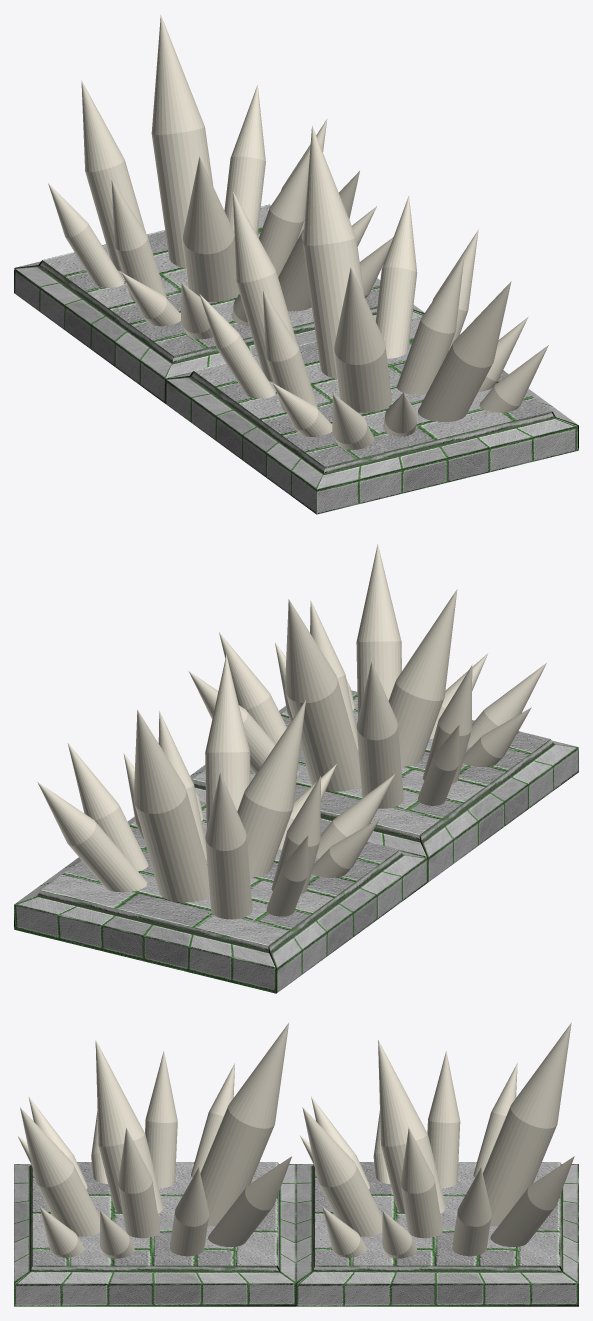
Rendered from WoodenSpikes_Animated_doubled.fbx.
3 renders of one model, top to bottom at view 1: azimuth 30°, elevation 25°; view 2: azimuth 150°, elevation 25°; view 3: azimuth 270°, elevation 25°, orthographic. The views are drawn at different scales.
Parts seen in each view (by area): view 1: WoodenSpikes, WoodenSpikes.001, Base, Base.001; view 2: WoodenSpikes.001, WoodenSpikes, Base.001, Base; view 3: WoodenSpikes.001, WoodenSpikes, Base.001, Base.
Boxes of the visible parts, x1,y1,x2,y2 form: WoodenSpikes: (199, 125, 548, 449); WoodenSpikes.001: (48, 14, 393, 339); Base: (165, 315, 578, 514); Base.001: (14, 204, 424, 403); WoodenSpikes.001: (37, 654, 395, 919); WoodenSpikes: (188, 543, 546, 808); Base.001: (14, 801, 427, 993); Base: (190, 690, 578, 882); WoodenSpikes.001: (300, 1022, 574, 1258); WoodenSpikes: (17, 1023, 291, 1258); Base.001: (296, 1162, 578, 1306); Base: (14, 1162, 296, 1306).
Size of the model in its own units: 200 by 180 by 400.
